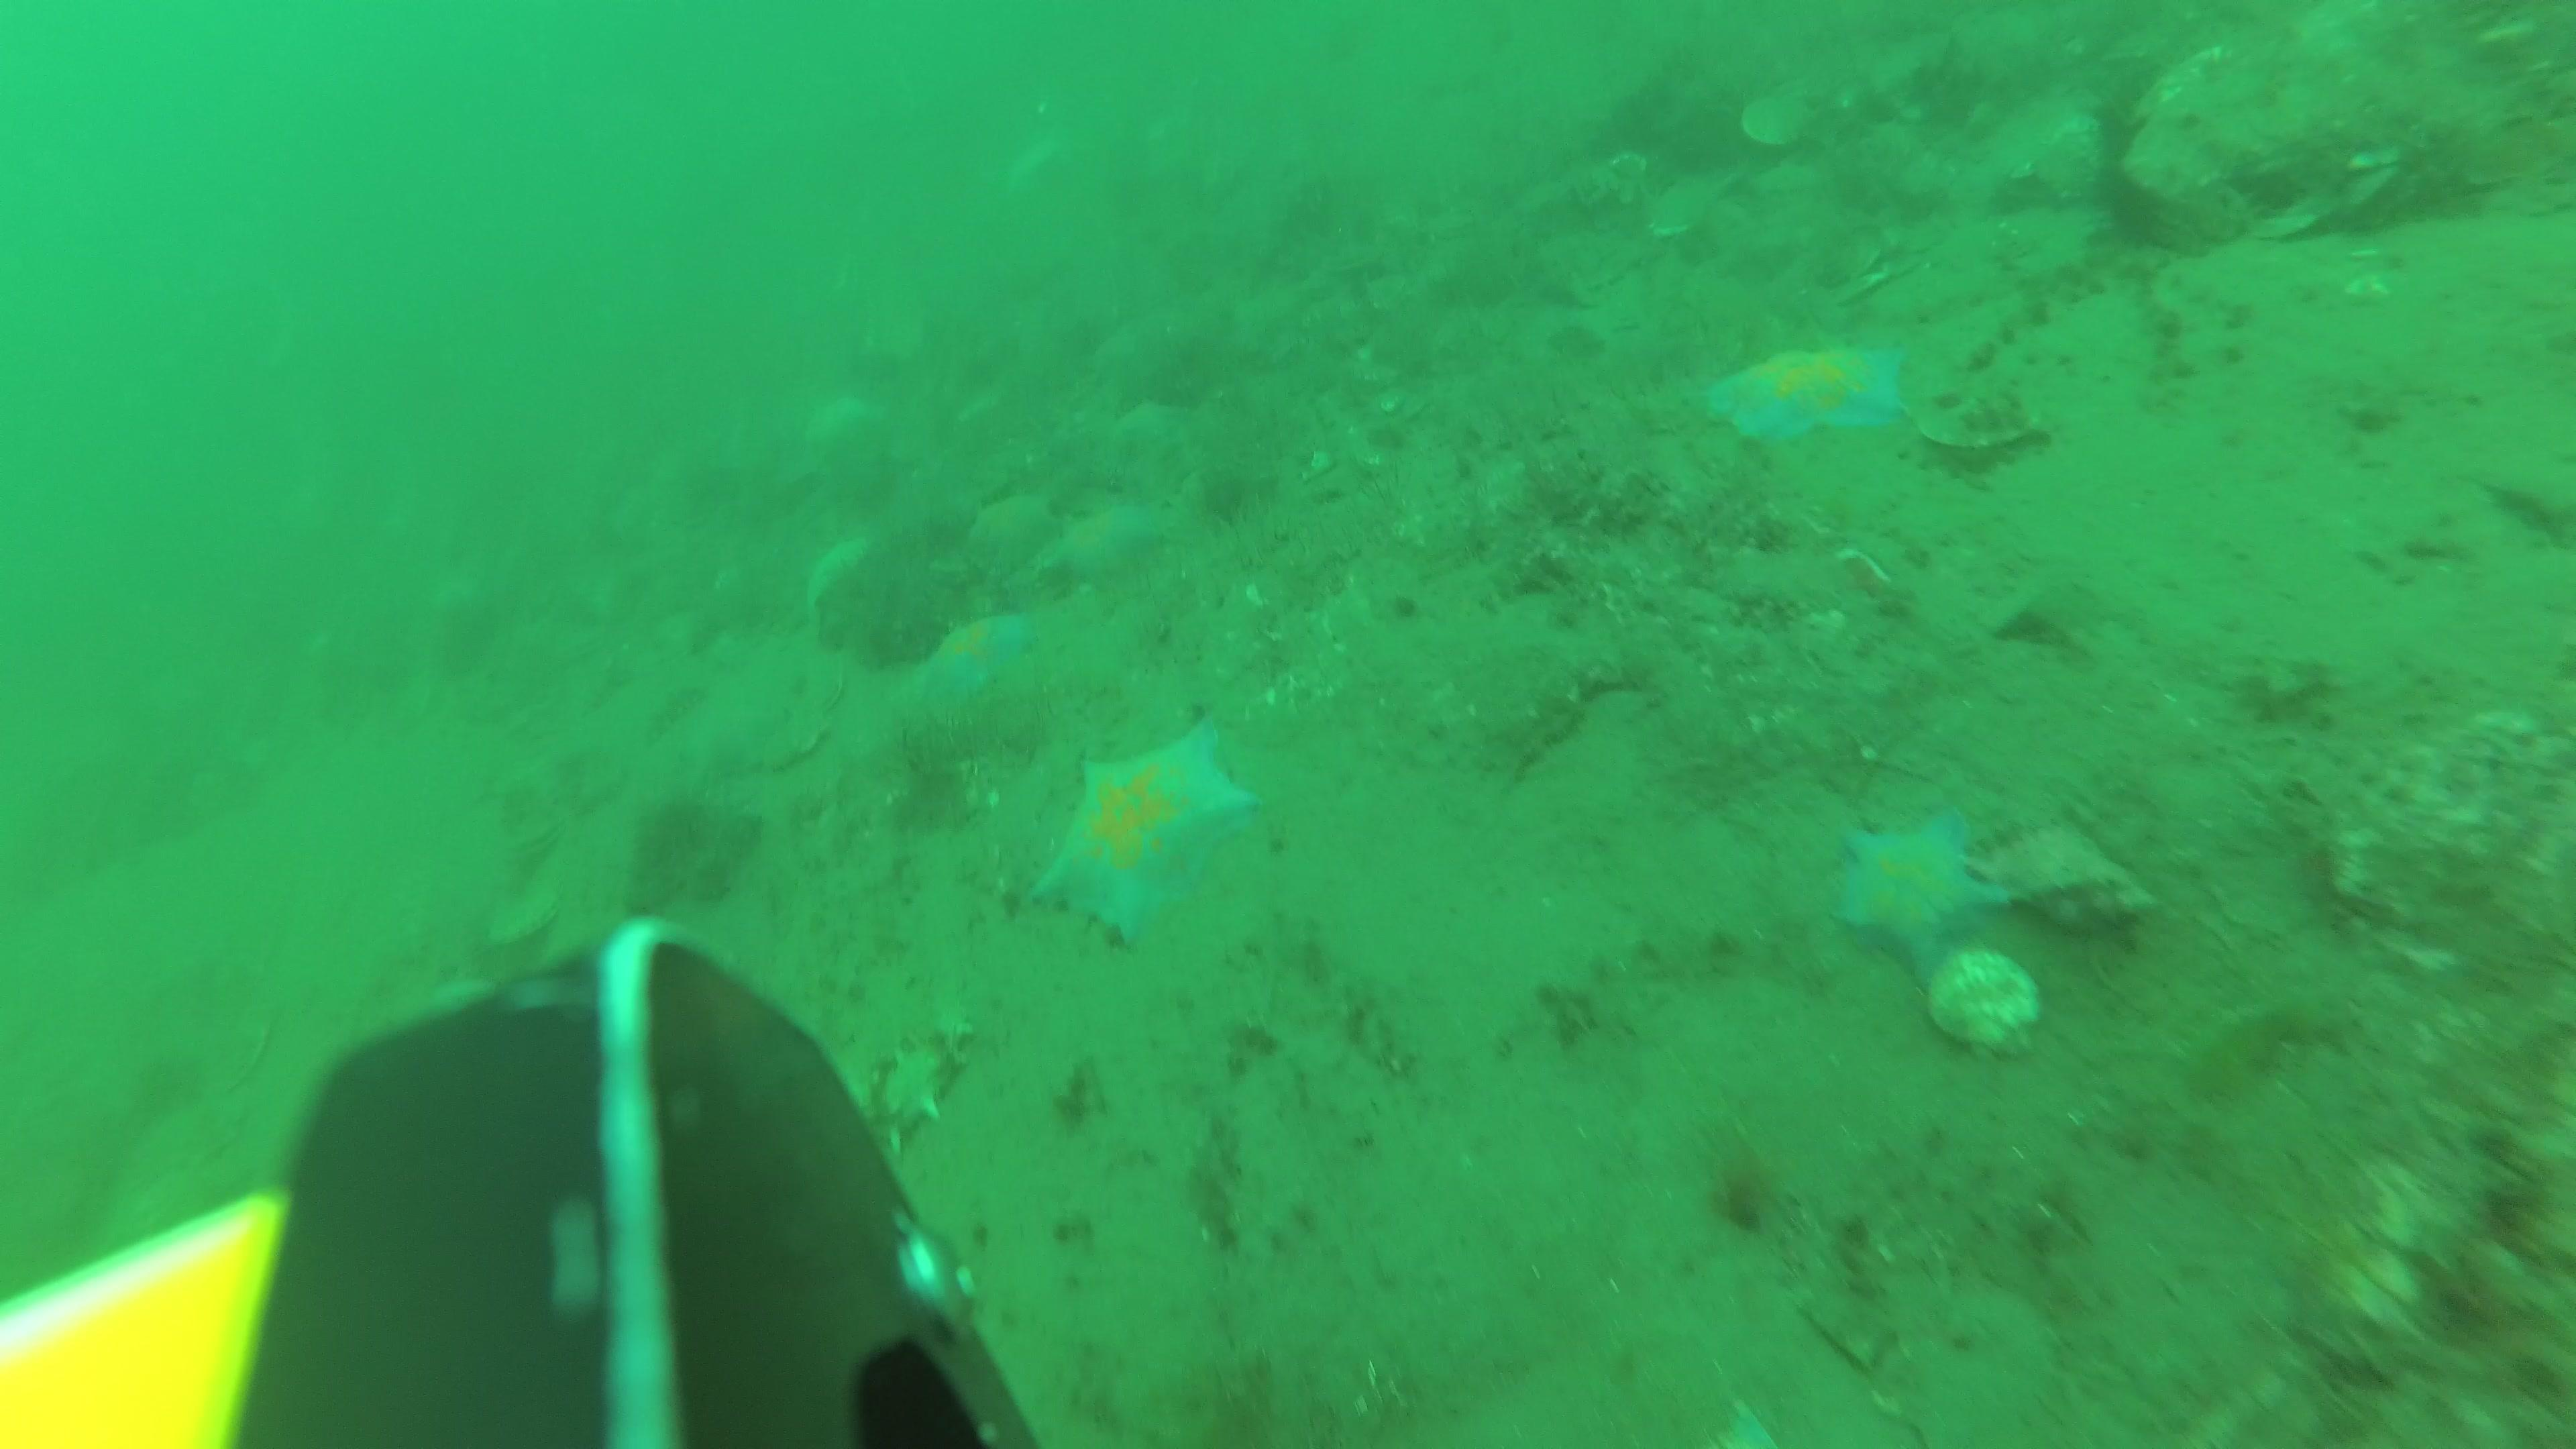echinus: (2114, 170, 2190, 255), (2093, 87, 2171, 166)
holothurian: (835, 1010, 975, 1191)
scallop: (1936, 950, 2047, 1056), (763, 713, 839, 773), (1741, 90, 1815, 150), (490, 885, 561, 947)
starfish: (1031, 706, 1254, 948), (1842, 809, 2006, 994), (1706, 345, 1911, 444), (911, 610, 1033, 722), (1046, 506, 1168, 579), (970, 490, 1054, 580), (1113, 391, 1200, 460), (801, 534, 869, 616)
